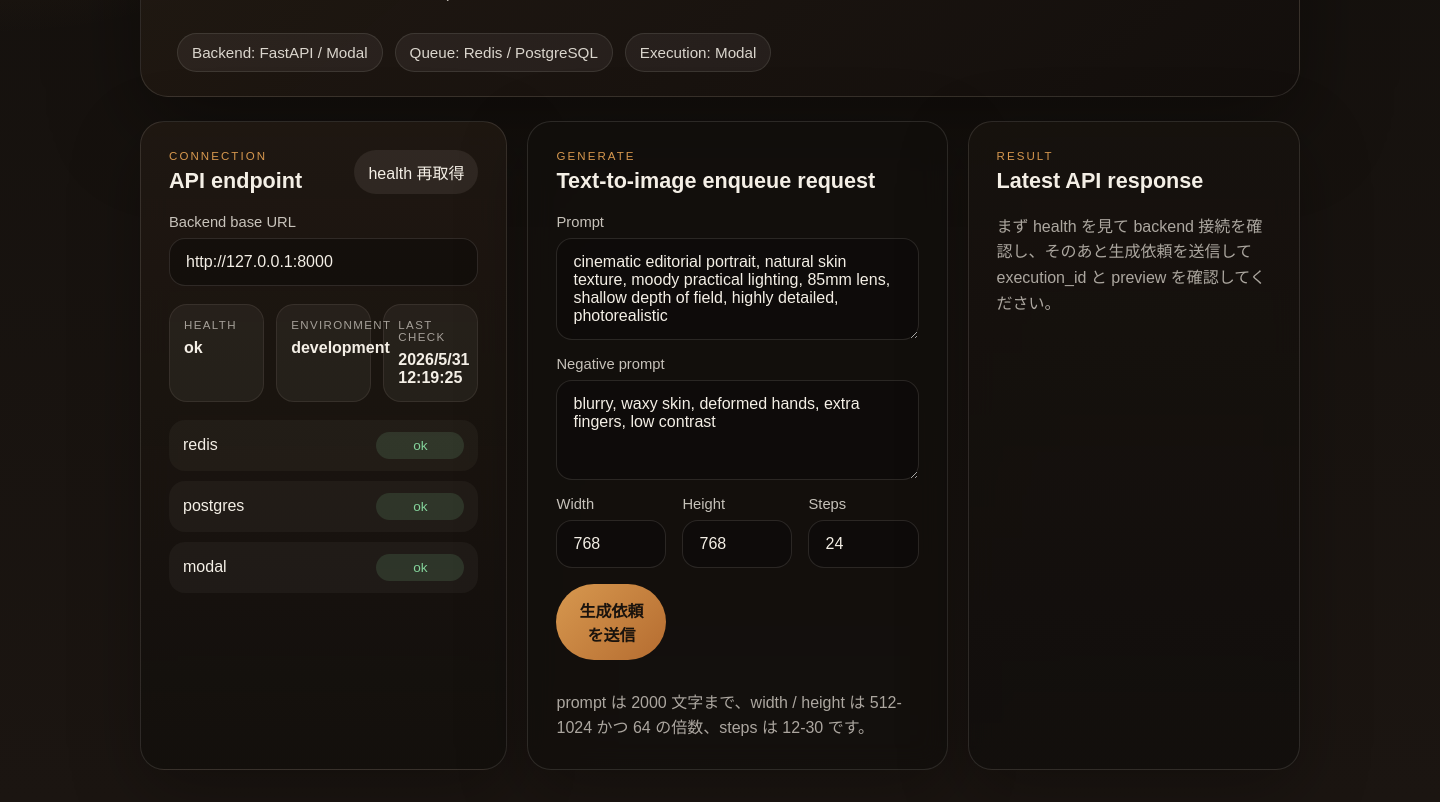
Scenario: App › keeps tracking queue state update failures that already spawned a job
(page scrolled)
Expected: the text "development" is shown, top-left (291, 339), bottom-right (390, 356)
Click the button "生成依頼を送信". click: (612, 622)
box: top-left (556, 584), bottom-right (666, 660)
(page scrolled)
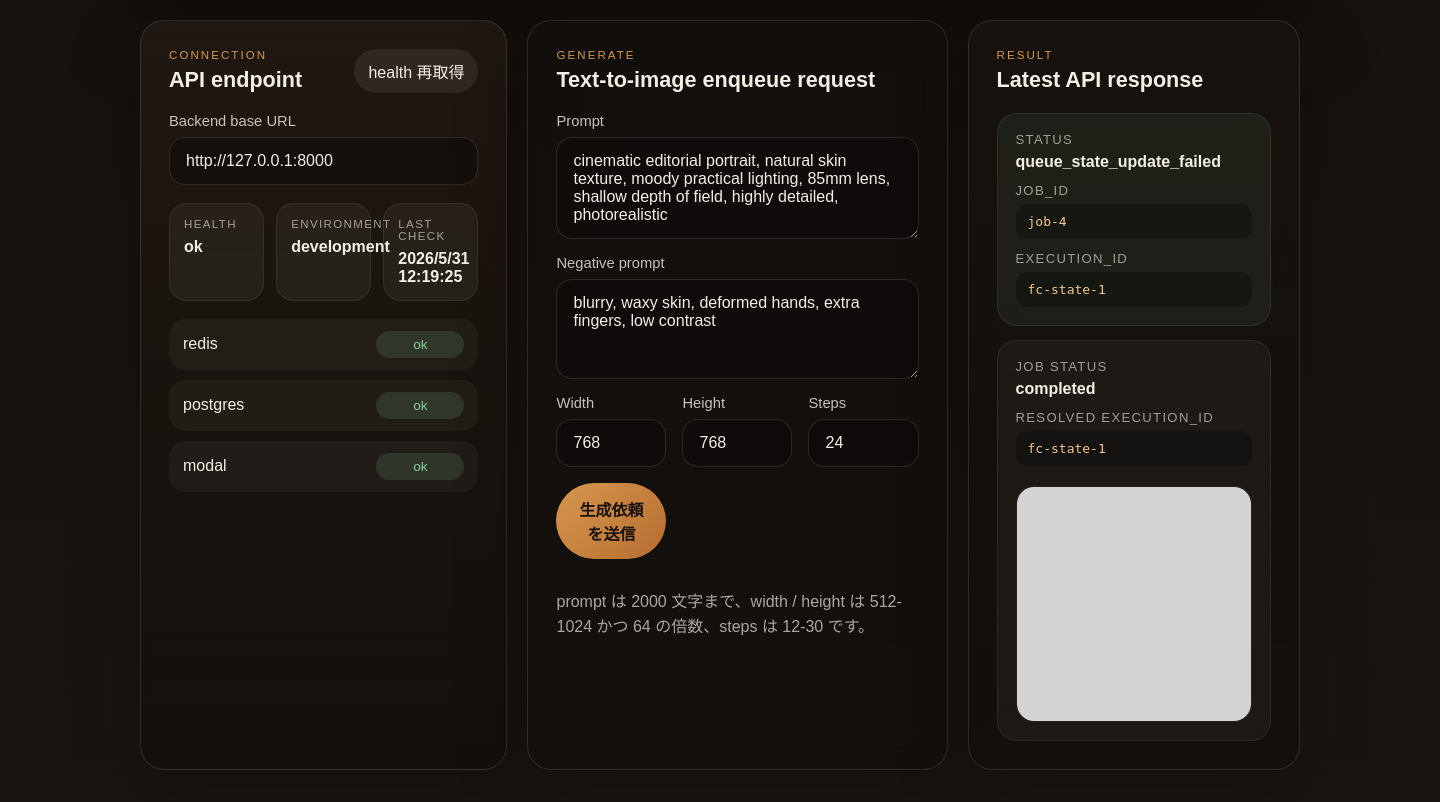
Now the text "completed" is shown, box top-left (1016, 380), bottom-right (1096, 397)
Now the text "fc-state-1" is shown 2 times, box top-left (1016, 272), bottom-right (1252, 307); top-left (1016, 431), bottom-right (1252, 466)
